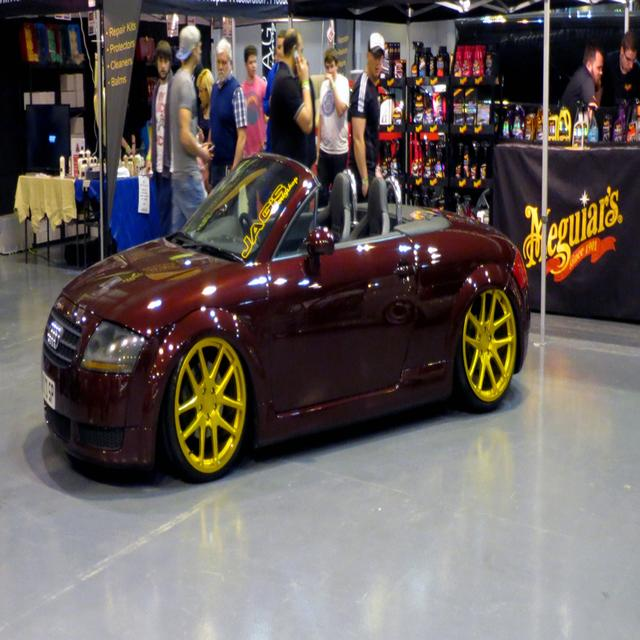Car: (42, 153, 531, 484)
